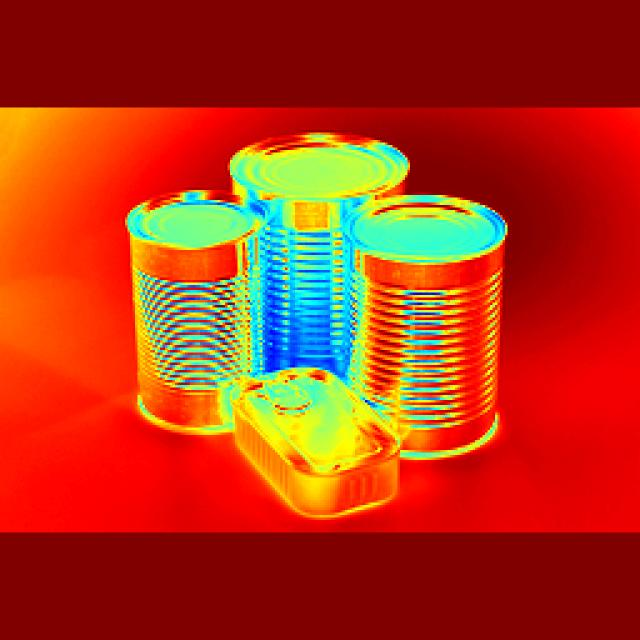Aluminium Food Cans: (346, 198, 488, 459), (234, 138, 386, 362), (120, 190, 262, 407), (266, 364, 366, 508)
